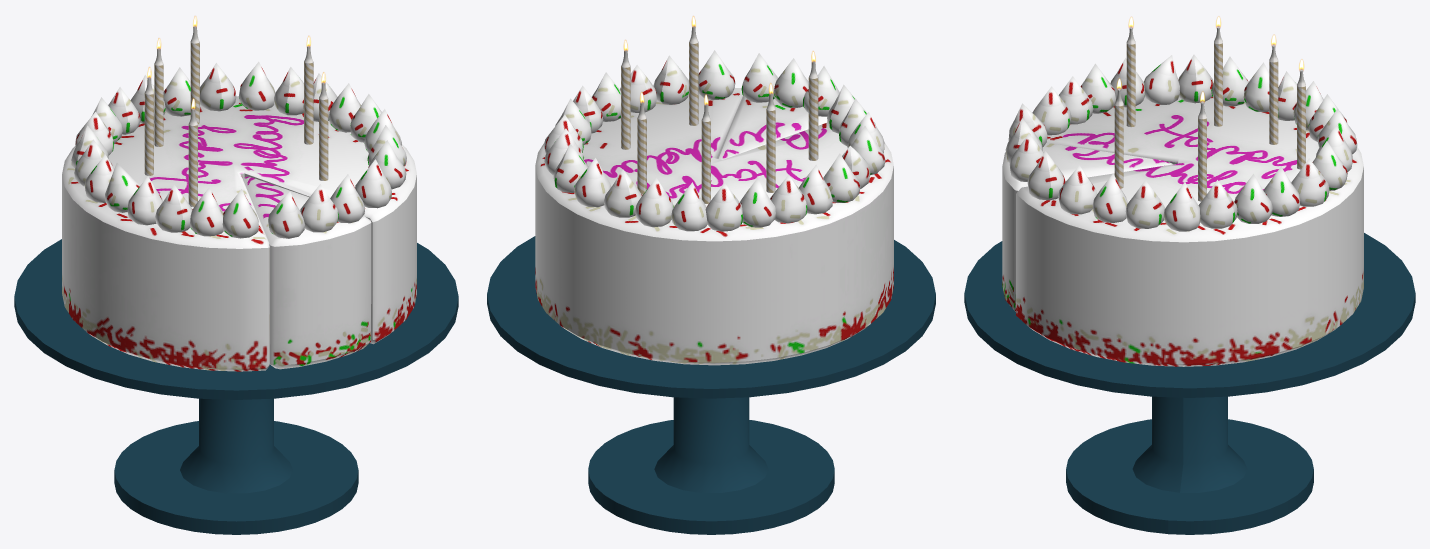
The model's file is cake.glb.
3 renders of one model, left to right at view 1: azimuth 30°, elevation 25°; view 2: azimuth 150°, elevation 25°; view 3: azimuth 270°, elevation 25°, orthographic.
Visible parts, largest first — view 1: MOD_CakeSliceTakenOut.001, MOD_CakePlatter.001, MOD_CakeSlice.001, MOD_BirthdayCandle.002, MOD_BirthdayCandle.004, MOD_BirthdayCandle.005, MOD_BirthdayCandle.003, MOD_BirthdayCandle.001, MOD_BirthdayCandle.006; view 2: MOD_CakeSliceTakenOut.001, MOD_CakePlatter.001, MOD_CakeSlice.001, MOD_BirthdayCandle.001, MOD_BirthdayCandle.002, MOD_BirthdayCandle.004, MOD_BirthdayCandle.005, MOD_BirthdayCandle.003, MOD_BirthdayCandle.006; view 3: MOD_CakeSliceTakenOut.001, MOD_CakePlatter.001, MOD_CakeSlice.001, MOD_BirthdayCandle.001, MOD_BirthdayCandle.003, MOD_BirthdayCandle.004, MOD_BirthdayCandle.002, MOD_BirthdayCandle.006, MOD_BirthdayCandle.005.
Boxes of the visible parts, left/top/right/bottom form: MOD_CakeSliceTakenOut.001: left=62, top=61, right=416, bottom=371; MOD_CakePlatter.001: left=14, top=239, right=458, bottom=534; MOD_CakeSlice.001: left=242, top=174, right=371, bottom=369; MOD_BirthdayCandle.002: left=144, top=67, right=153, bottom=175; MOD_BirthdayCandle.004: left=319, top=72, right=328, bottom=180; MOD_BirthdayCandle.005: left=304, top=36, right=313, bottom=144; MOD_BirthdayCandle.003: left=154, top=38, right=163, bottom=146; MOD_BirthdayCandle.001: left=188, top=98, right=197, bottom=207; MOD_BirthdayCandle.006: left=190, top=16, right=199, bottom=124; MOD_CakeSliceTakenOut.001: left=535, top=50, right=893, bottom=365; MOD_CakePlatter.001: left=487, top=236, right=935, bottom=534; MOD_CakeSlice.001: left=718, top=53, right=839, bottom=159; MOD_BirthdayCandle.001: left=808, top=51, right=818, bottom=160; MOD_BirthdayCandle.002: left=766, top=83, right=775, bottom=192; MOD_BirthdayCandle.004: left=689, top=16, right=698, bottom=125; MOD_BirthdayCandle.005: left=621, top=40, right=630, bottom=149; MOD_BirthdayCandle.003: left=701, top=94, right=710, bottom=203; MOD_BirthdayCandle.006: left=637, top=92, right=646, bottom=195; MOD_CakeSliceTakenOut.001: left=1016, top=54, right=1363, bottom=366; MOD_CakePlatter.001: left=964, top=233, right=1415, bottom=534; MOD_CakeSlice.001: left=1002, top=103, right=1172, bottom=311; MOD_BirthdayCandle.001: left=1126, top=17, right=1135, bottom=127; MOD_BirthdayCandle.003: left=1269, top=34, right=1278, bottom=144; MOD_BirthdayCandle.004: left=1114, top=78, right=1123, bottom=188; MOD_BirthdayCandle.002: left=1214, top=16, right=1222, bottom=126; MOD_BirthdayCandle.006: left=1297, top=59, right=1305, bottom=169; MOD_BirthdayCandle.005: left=1198, top=91, right=1206, bottom=201.
Size of the model in its own units: 0.4898 by 0.5164 by 0.4898.
3 materials, 3 textured.
